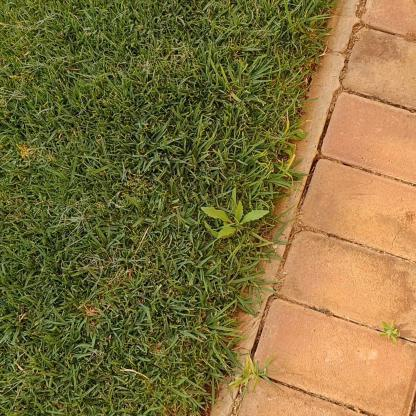Weeds: (199, 202, 271, 240)
